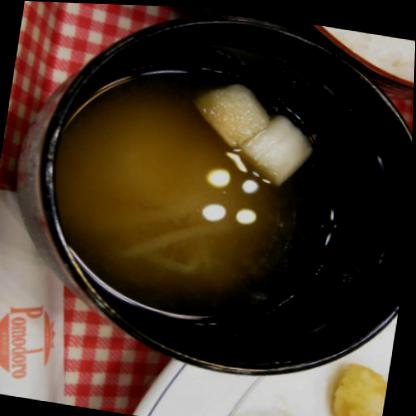miso soup: (37, 25, 377, 346)
